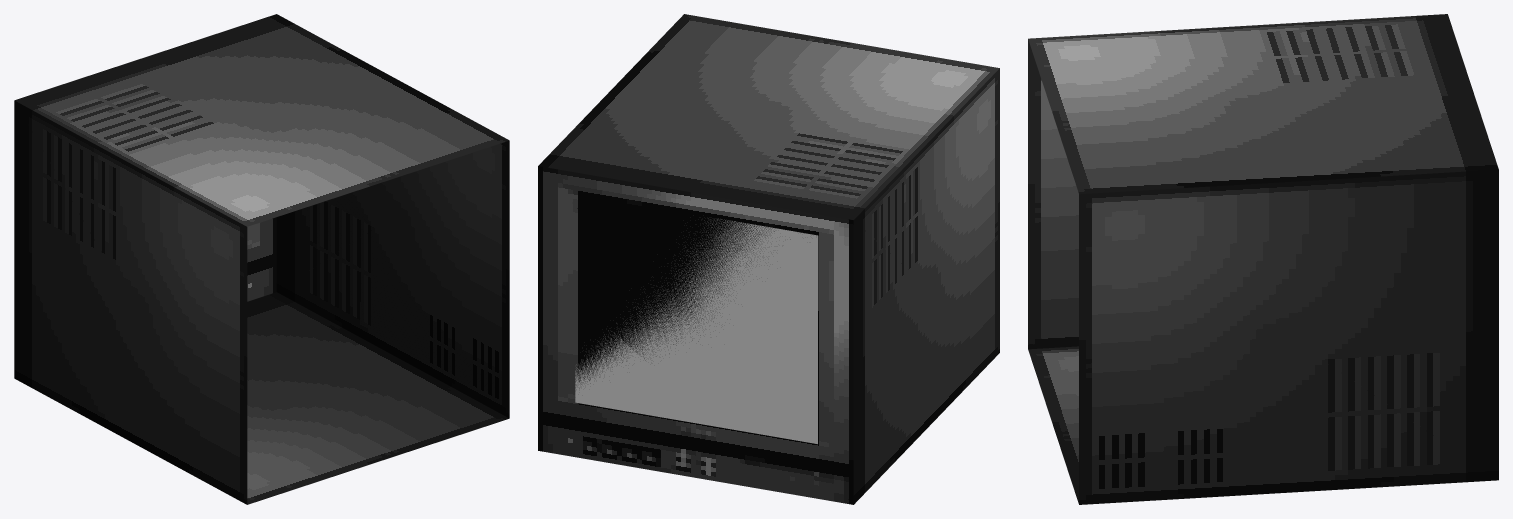
File: primary_076.glb
The picture shows the model from 3 angles, left to right: view 1: azimuth 30°, elevation 25°; view 2: azimuth 150°, elevation 25°; view 3: azimuth 270°, elevation 25°; orthographic projection. The views are drawn at different scales.
Parts seen in each view (by area): view 1: Object; view 2: Object; view 3: Object.
Boxes of the visible parts, x1,y1,x2,y2 form: Object: (14, 14, 509, 504); Object: (538, 14, 999, 504); Object: (1028, 14, 1498, 504).
Size of the model in its own units: 0.7614 by 0.6122 by 0.8407.
7 materials, 7 textured.
